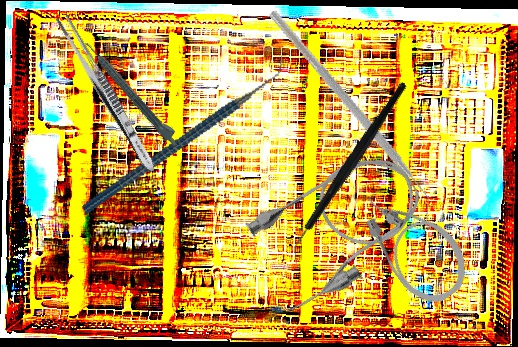Cannula: (235, 134, 442, 322), (349, 171, 480, 315)
Chopper: (223, 8, 476, 223), (57, 51, 310, 217), (243, 79, 455, 268)
Dressing Forceps: (52, 12, 161, 176)
Handpiece: (82, 35, 185, 150)
